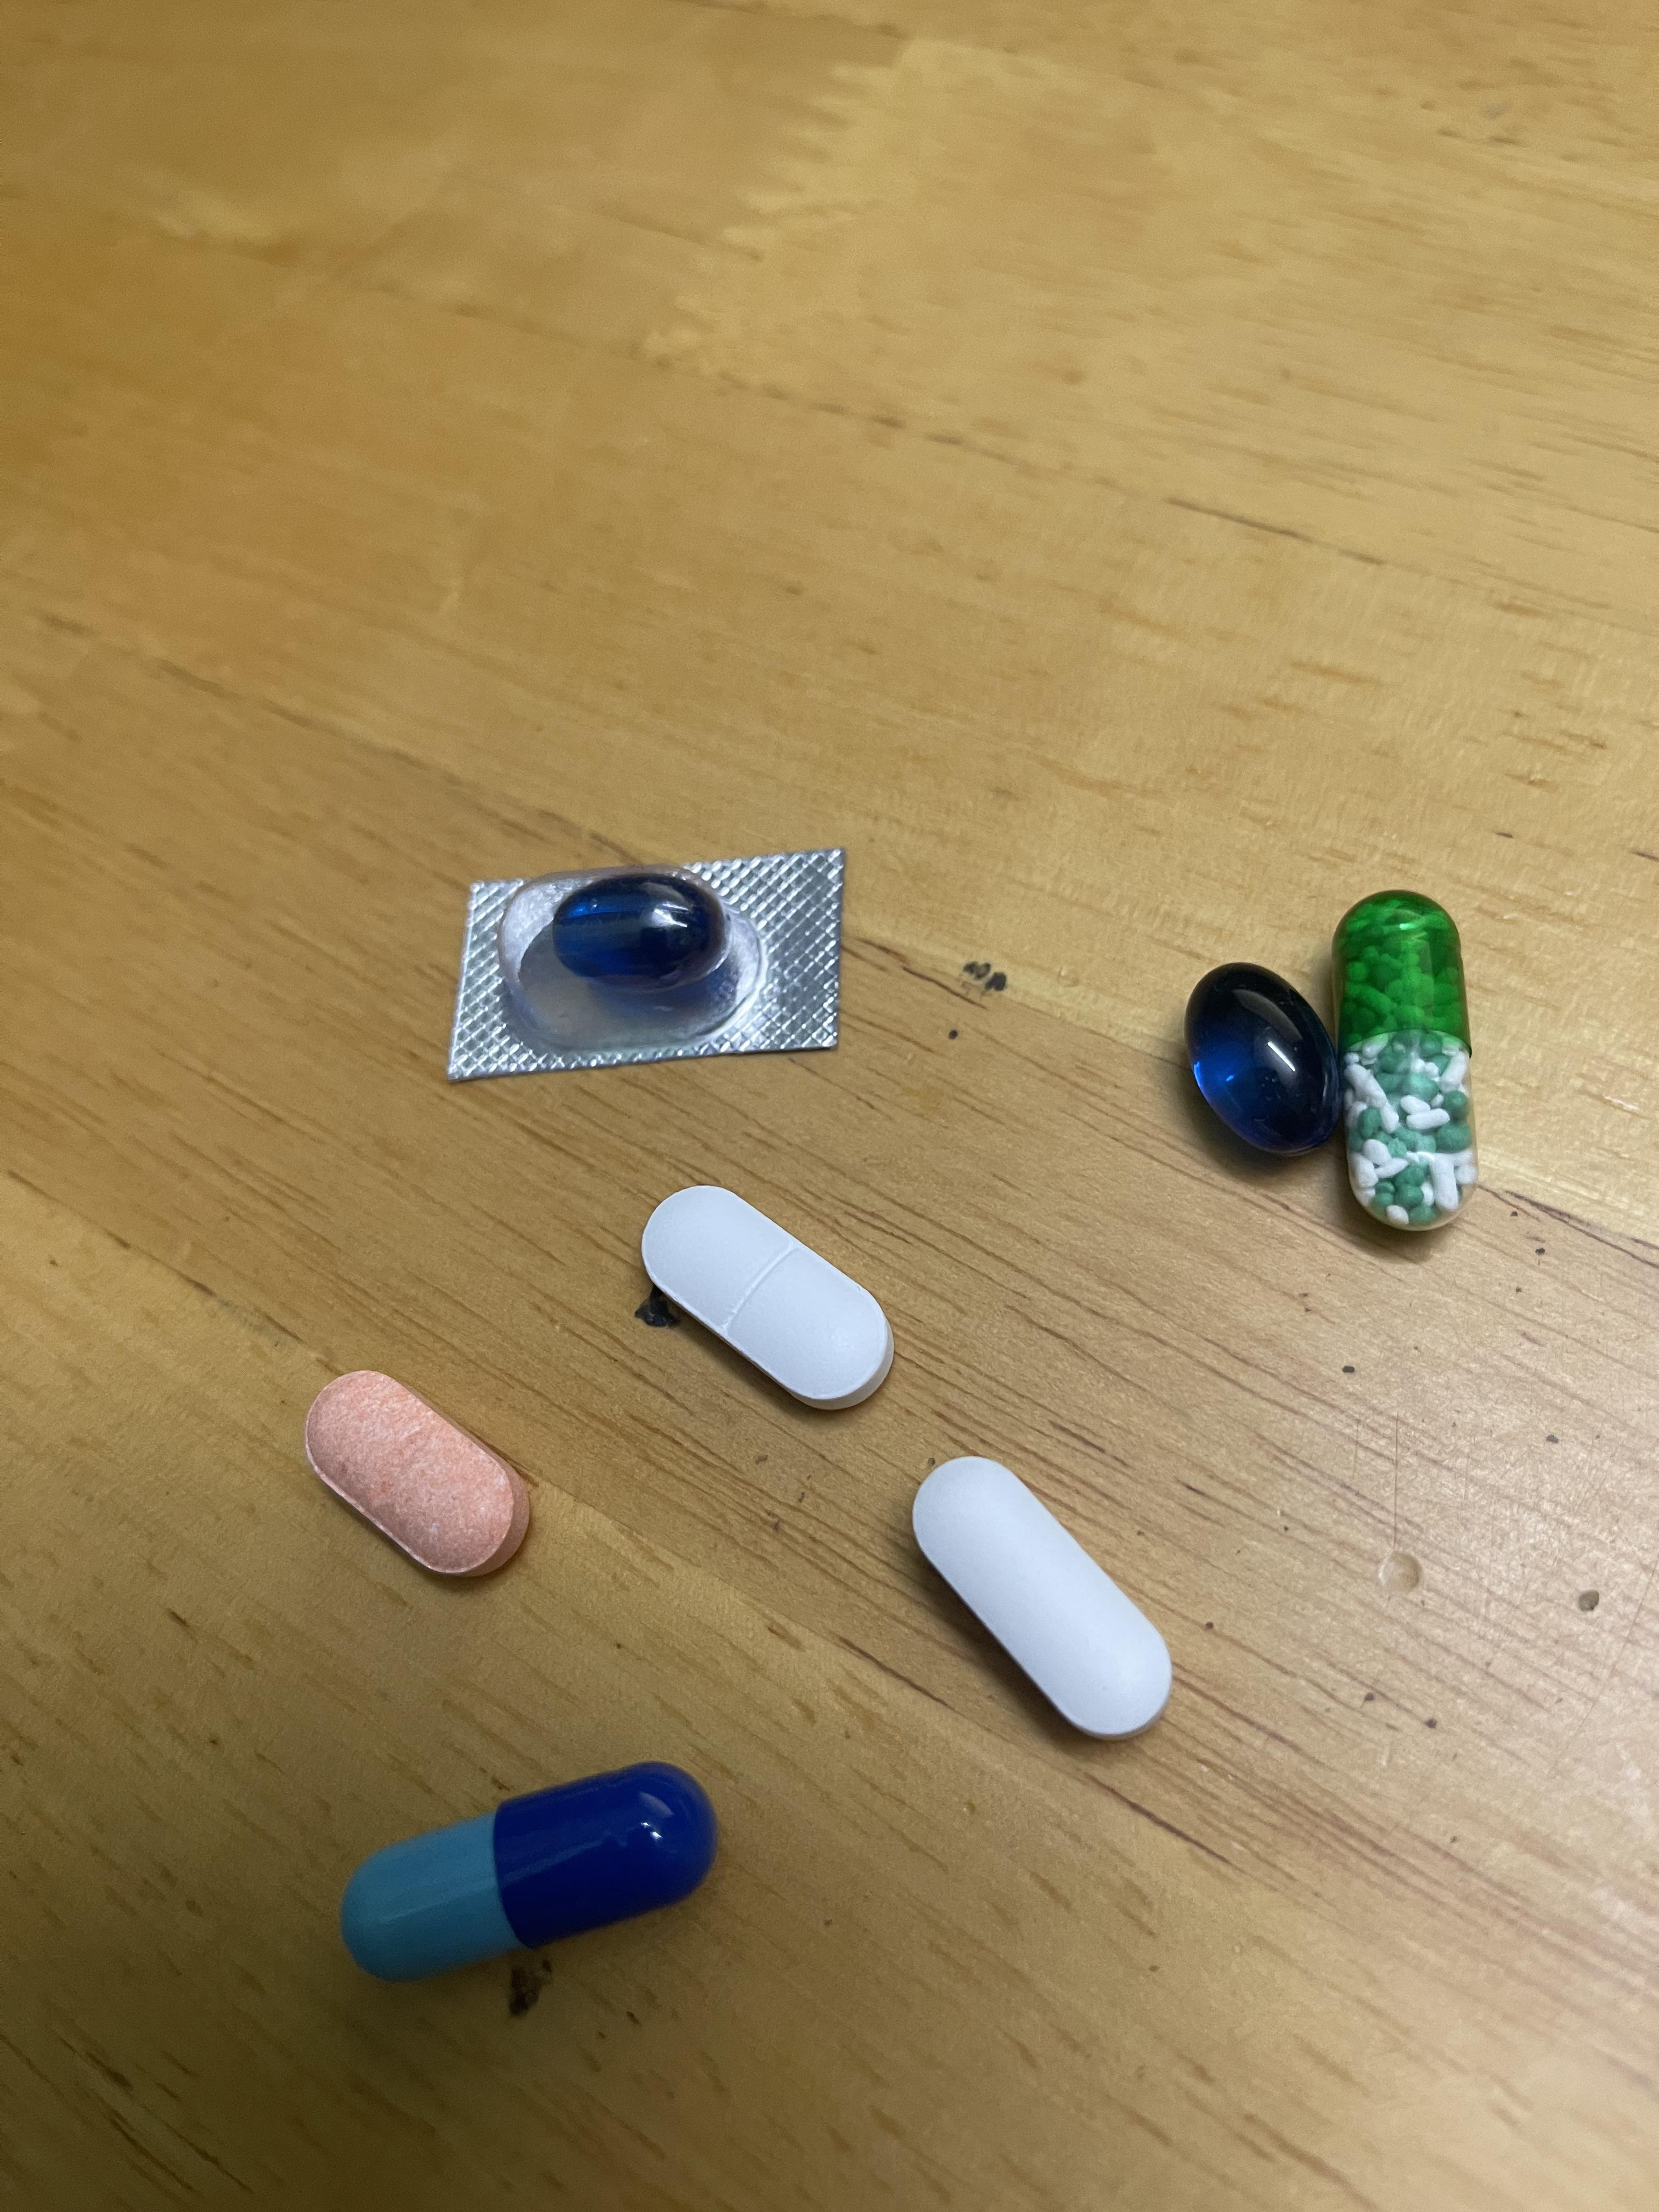Lincomyxin_500mg: (1183, 961, 1344, 1162), (547, 873, 730, 989)
Loratadine_10mg: (303, 1367, 528, 1580)
Paracetamol_350mg: (650, 1184, 889, 1406)
Paracetamol_500mg: (913, 1454, 1166, 1733)
Paracetamol_650mg: (1342, 911, 1471, 1226)
pill: (347, 1775, 708, 1979)
